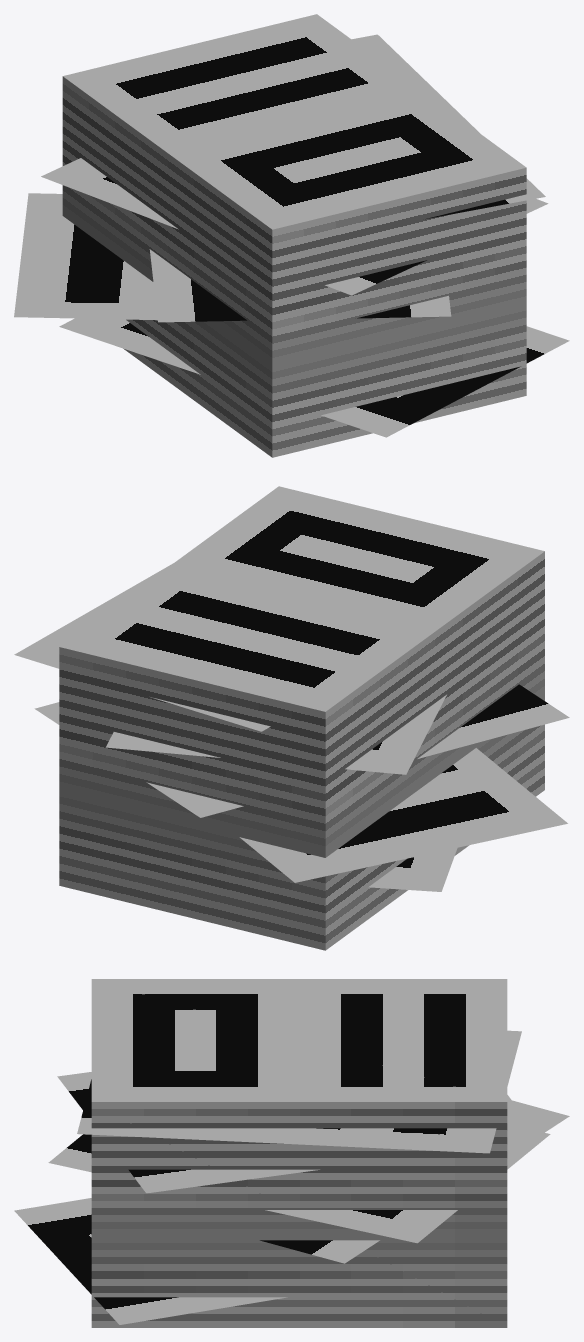
File: StackOfPapers.fbx
3 renders of one model, top to bottom at view 1: azimuth 30°, elevation 25°; view 2: azimuth 150°, elevation 25°; view 3: azimuth 270°, elevation 25°, orthographic. The views are drawn at different scales.
Visible parts, largest first — view 1: StackOfPapers; view 2: StackOfPapers; view 3: StackOfPapers.
Part boxes in pixels (x1=…): StackOfPapers: x1=14, y1=14, x2=569, y2=457; StackOfPapers: x1=14, y1=486, x2=569, y2=950; StackOfPapers: x1=14, y1=979, x2=569, y2=1327.
Bounding box in the file's own units: 40.21 × 18.9 × 42.15.
Materials: 1 (1 with a texture image).
